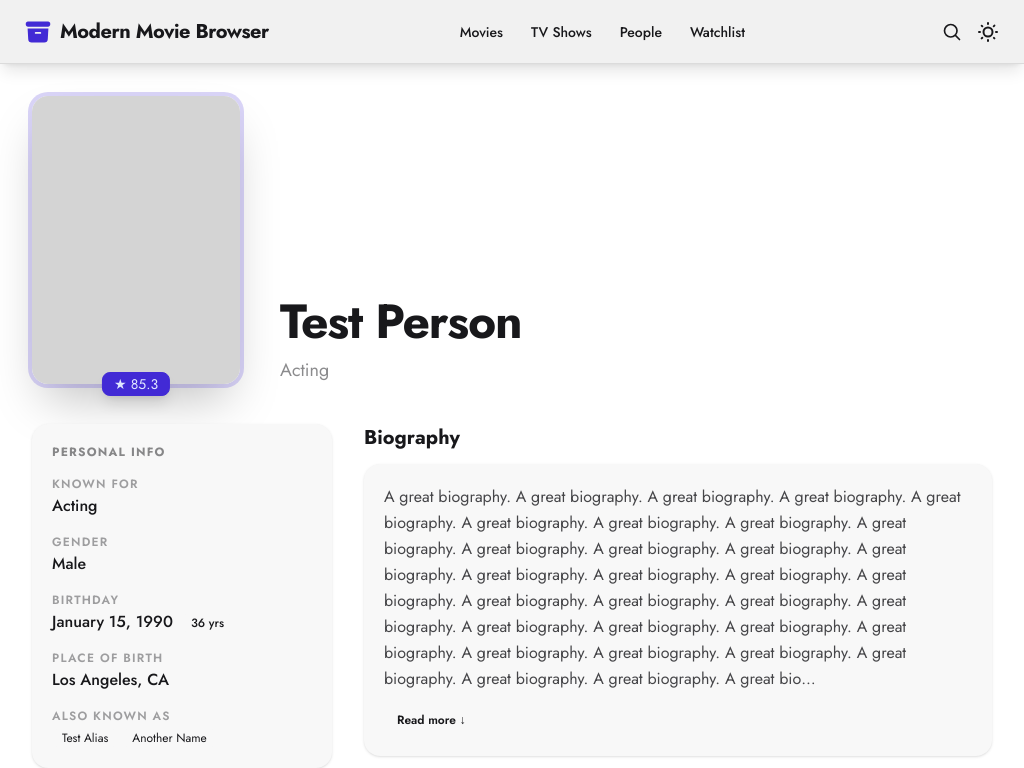
Test: PersonDetails › expands biography when Read more is clicked
What coordinates should you click on to do the following:
click the button "Read more ↓"
I would click on:
 (431, 720)
Its box is [384,704,478,736].
(page scrolled)
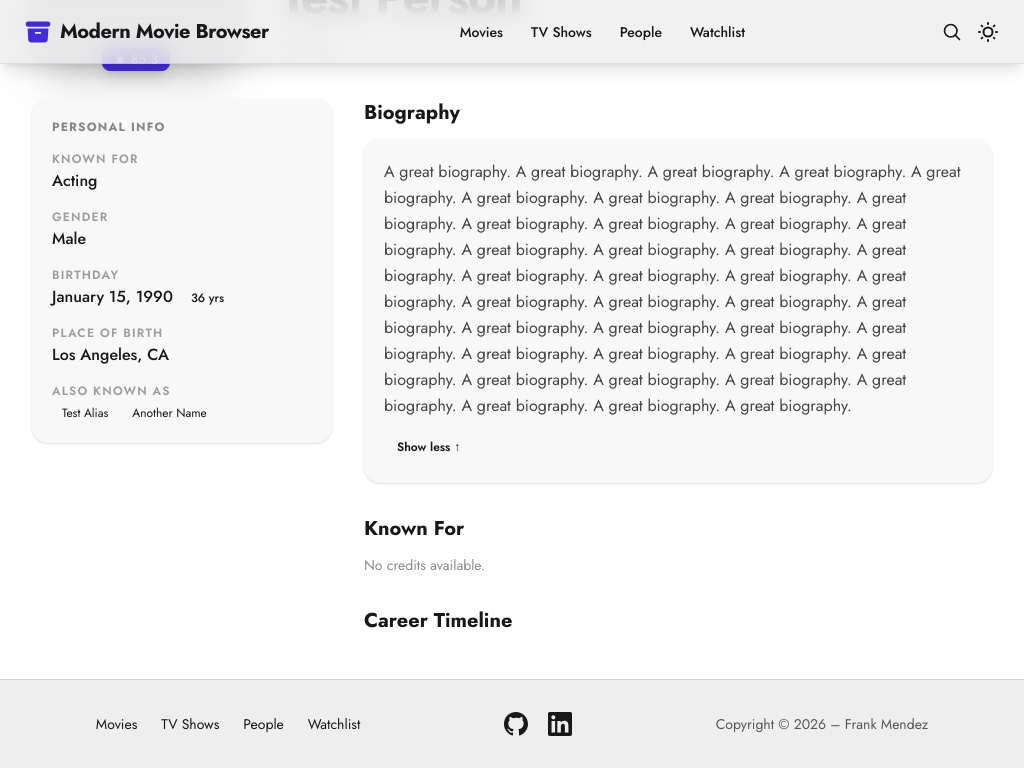
Expected: the button "Show less ↑" is shown, [384,431,473,463]
